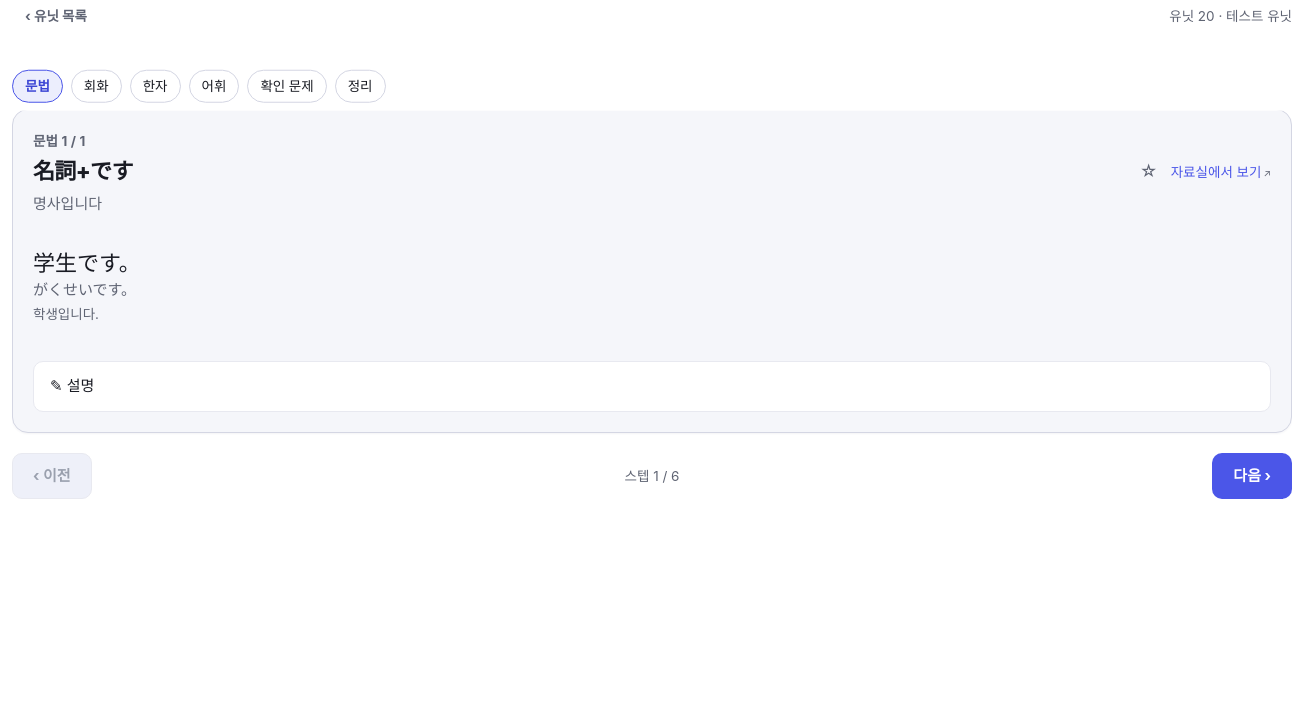
it: 코스 마지막 유닛 (AC-Q-7) › [다음 ›]만으로 확인 문제 → 정리에 닿고, [다음 코스 시작하기]는 정리에서만 보인다
Expected: the button "정리" is shown, [335,70,386,102]
Click the button "다음 ›" at x=1252, y=476, box [1212,453,1292,499]
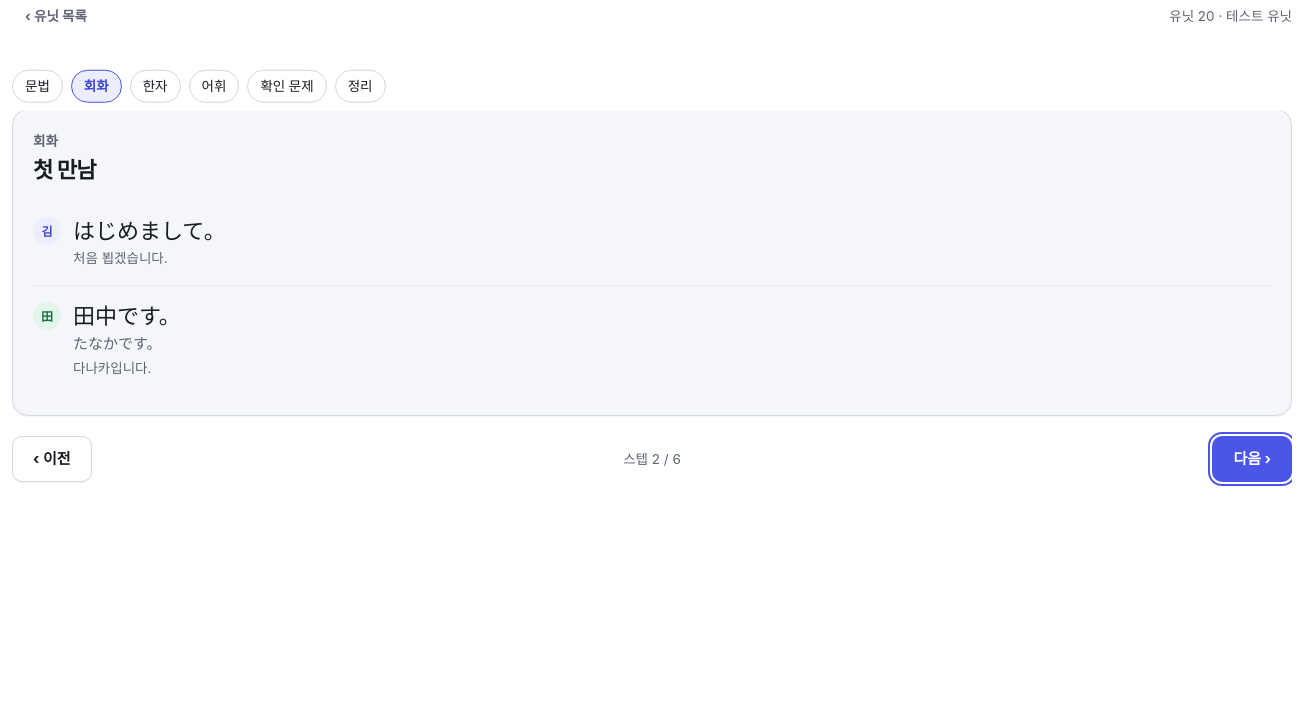
Click the button "다음 ›" at x=1252, y=459, box [1212,436,1292,482]
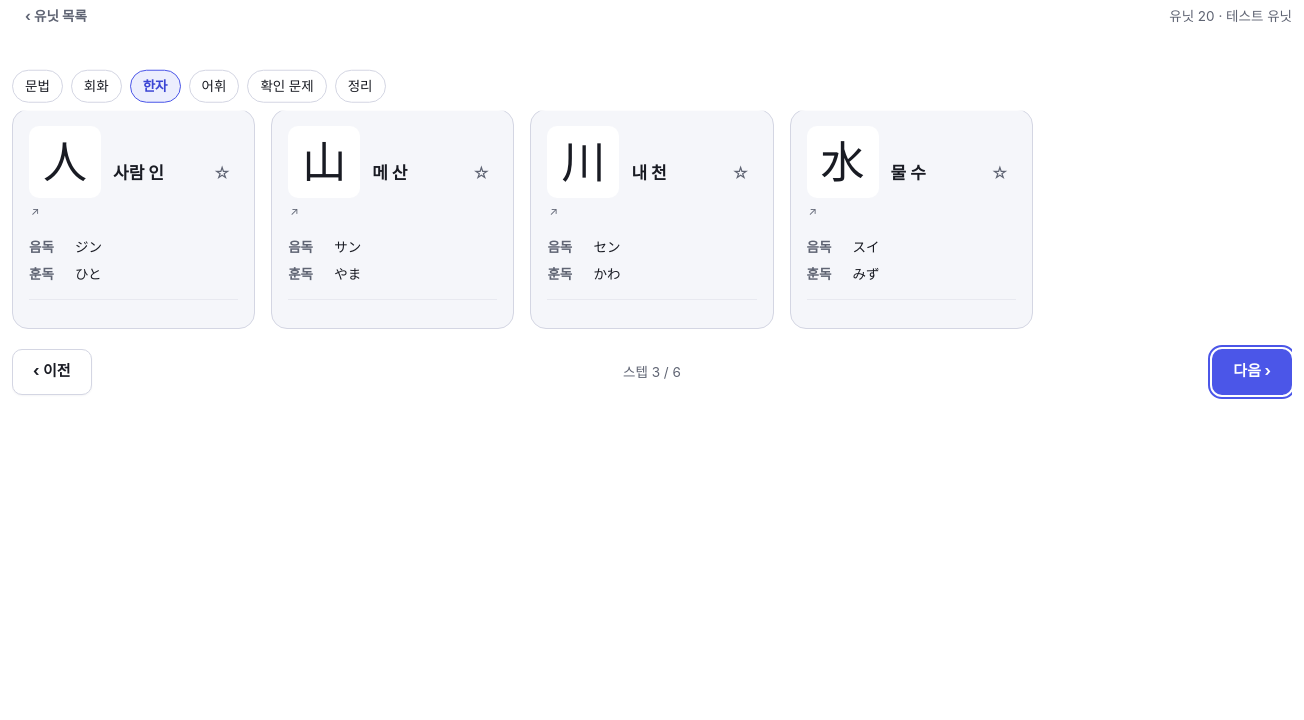
Click the button "다음 ›" at x=1252, y=372, box [1212,349,1292,395]
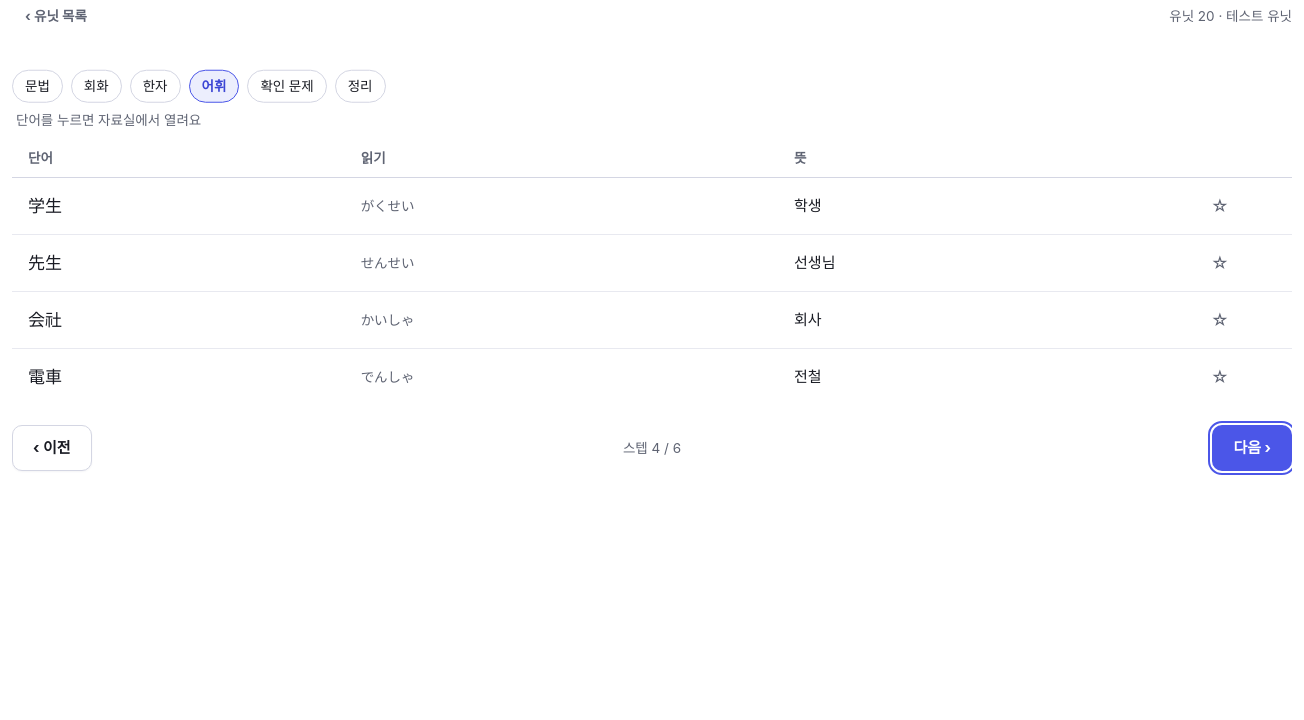
Click the button "다음 ›" at x=1252, y=448, box [1212,425,1292,471]
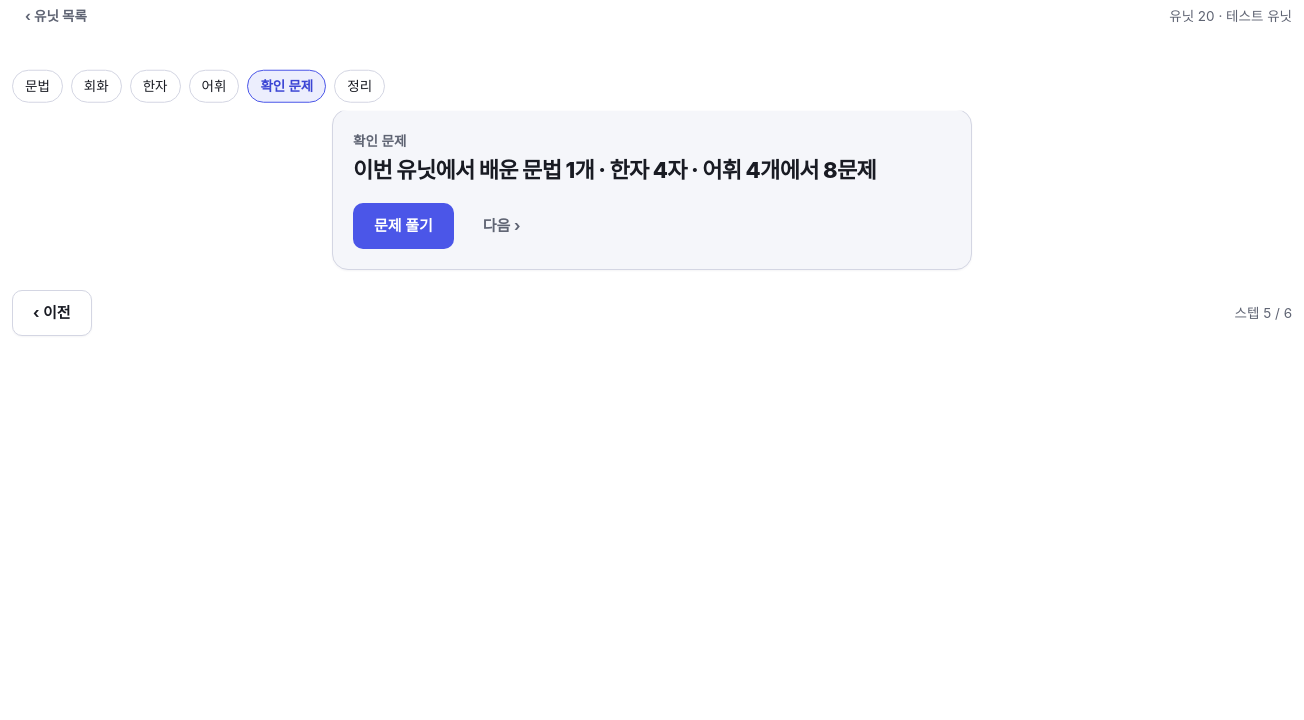
Expected: the link "시작하기" is not shown
Expected: the number of buttons "다음 ›" is 1
Click the button "다음 ›" at x=502, y=226, box [462,204,541,250]
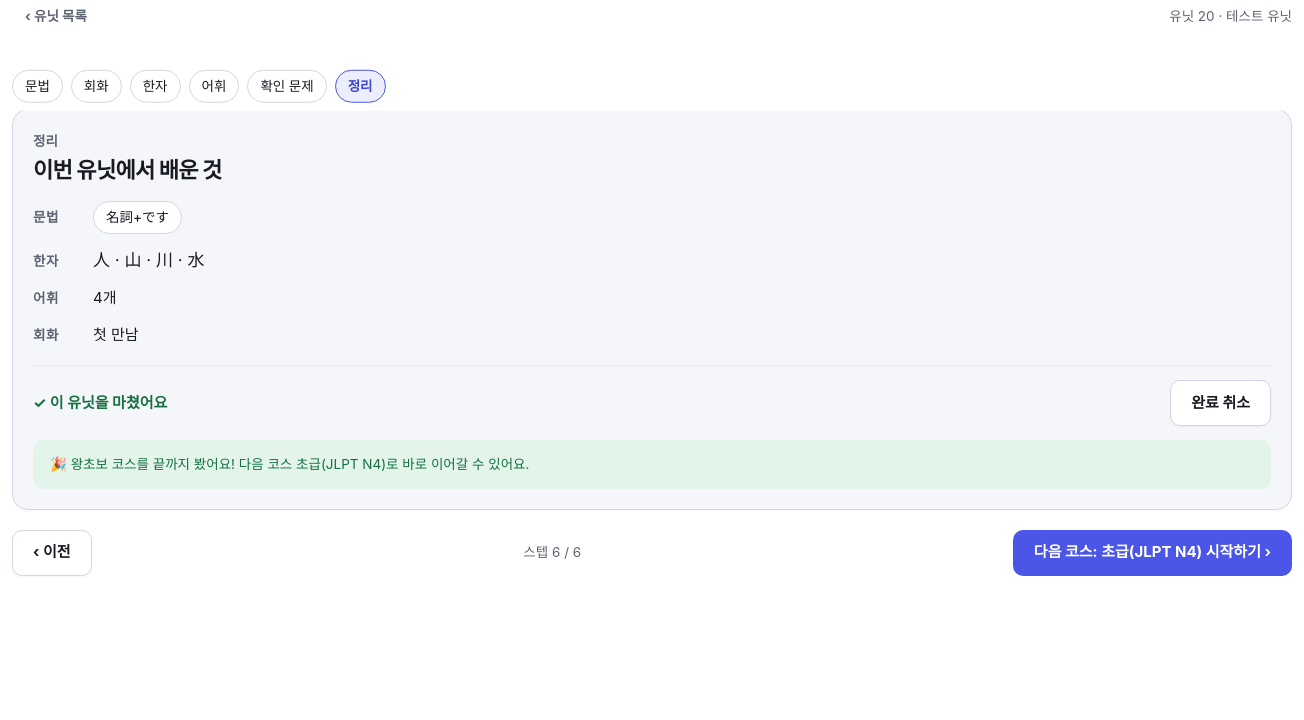
Expected: the heading "이번 유닛에서 배운 것" is shown, [33,157,222,183]
